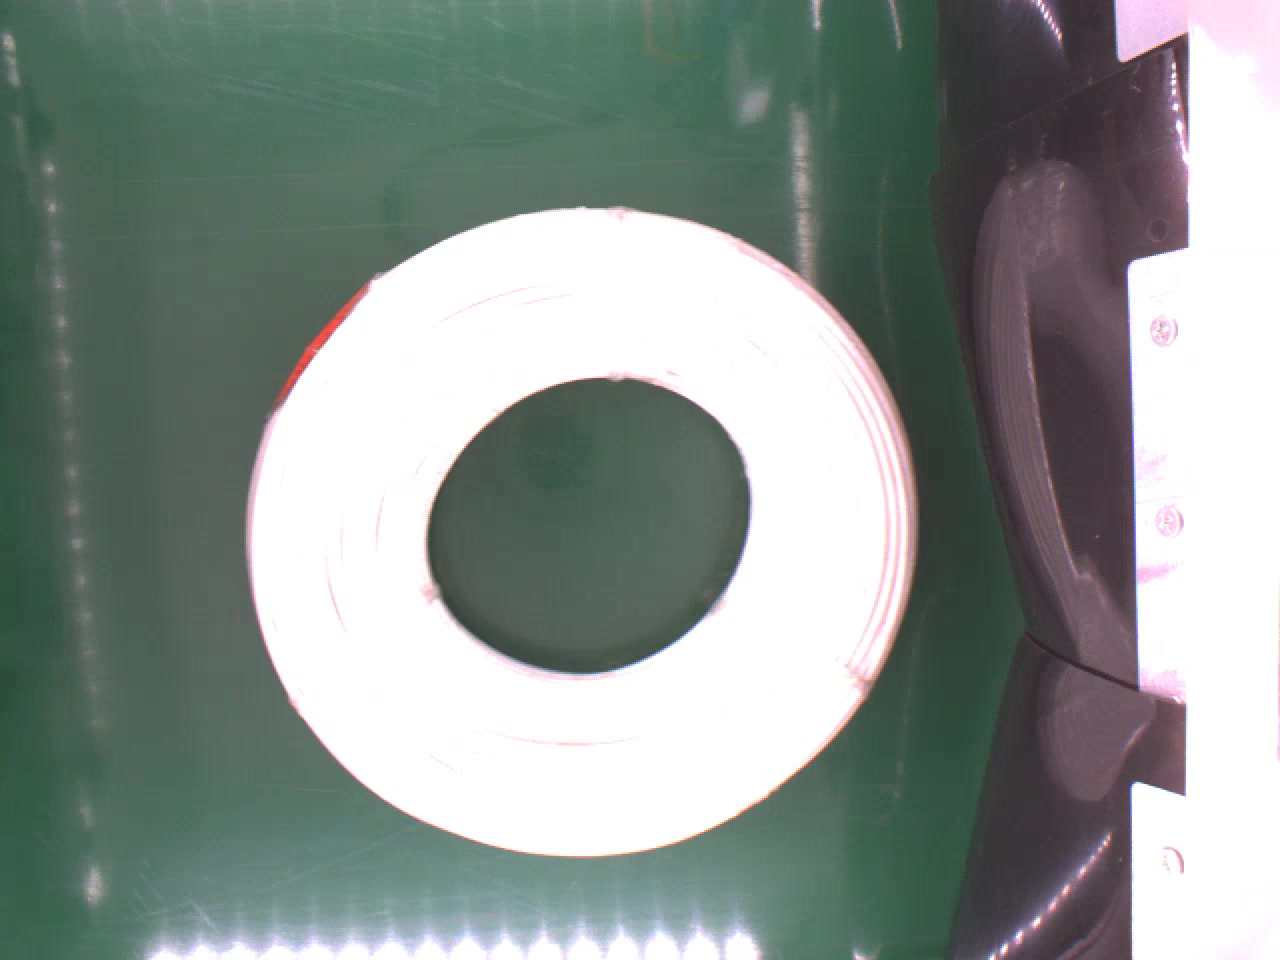white: (243, 198, 922, 861)
